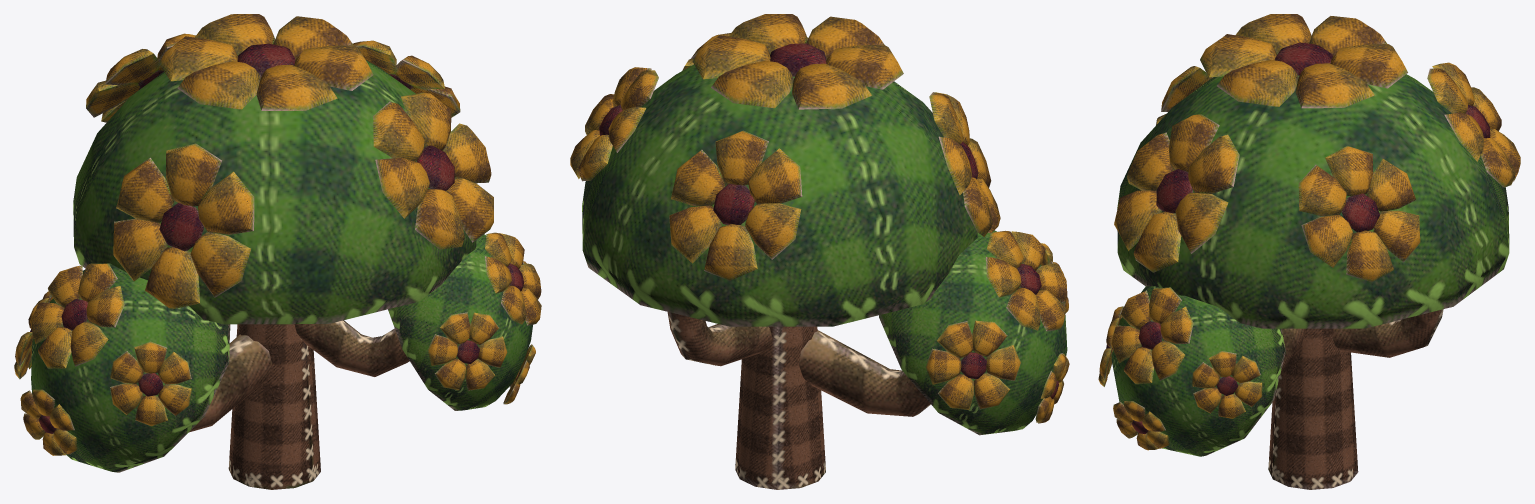
Rendered from lpb_cs_plant3.fbx.
The picture shows the model from 3 angles, left to right: view 1: azimuth 30°, elevation 25°; view 2: azimuth 150°, elevation 25°; view 3: azimuth 270°, elevation 25°; orthographic projection. The views are drawn at different scales.
Parts seen in each view (by area): view 1: lpb_cs_plant3; view 2: lpb_cs_plant3; view 3: lpb_cs_plant3.
Part boxes in pixels (left/top/right/bottom): lpb_cs_plant3: left=14, top=14, right=541, bottom=489; lpb_cs_plant3: left=570, top=14, right=1069, bottom=489; lpb_cs_plant3: left=1098, top=14, right=1520, bottom=489.
Size of the model in its own units: 102 by 90.2 by 82.81.
